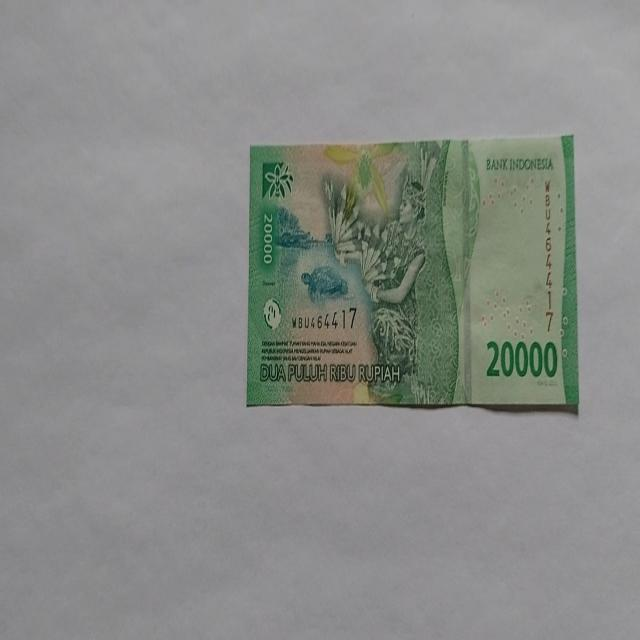dua puluh ribu rupiah: (245, 134, 579, 412)
